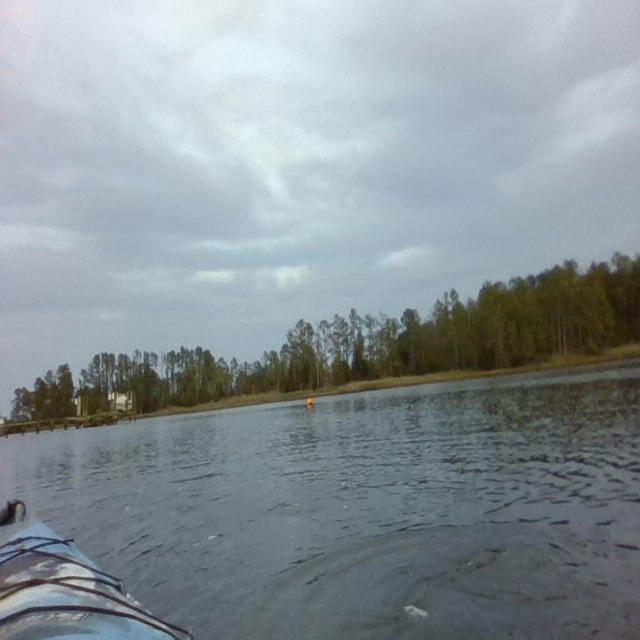Buoy: (306, 395, 313, 412)
